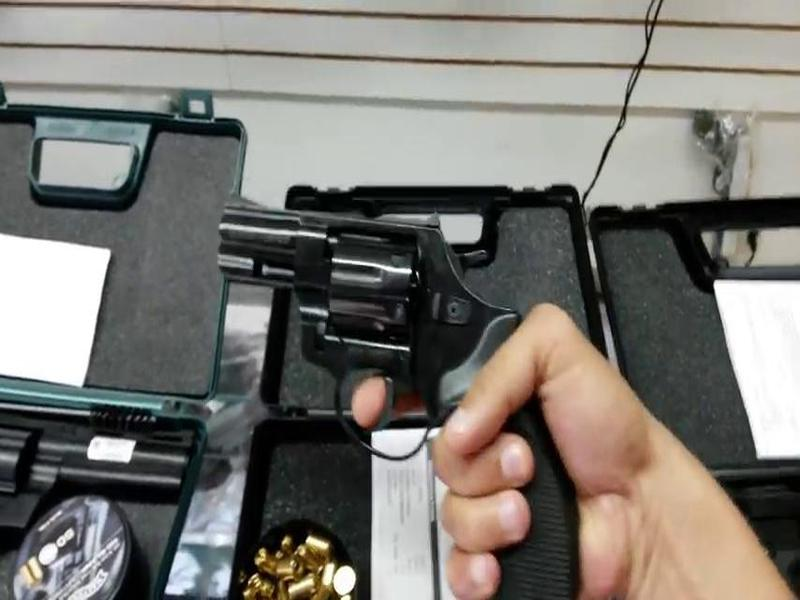Revolver: (208, 187, 593, 600)
